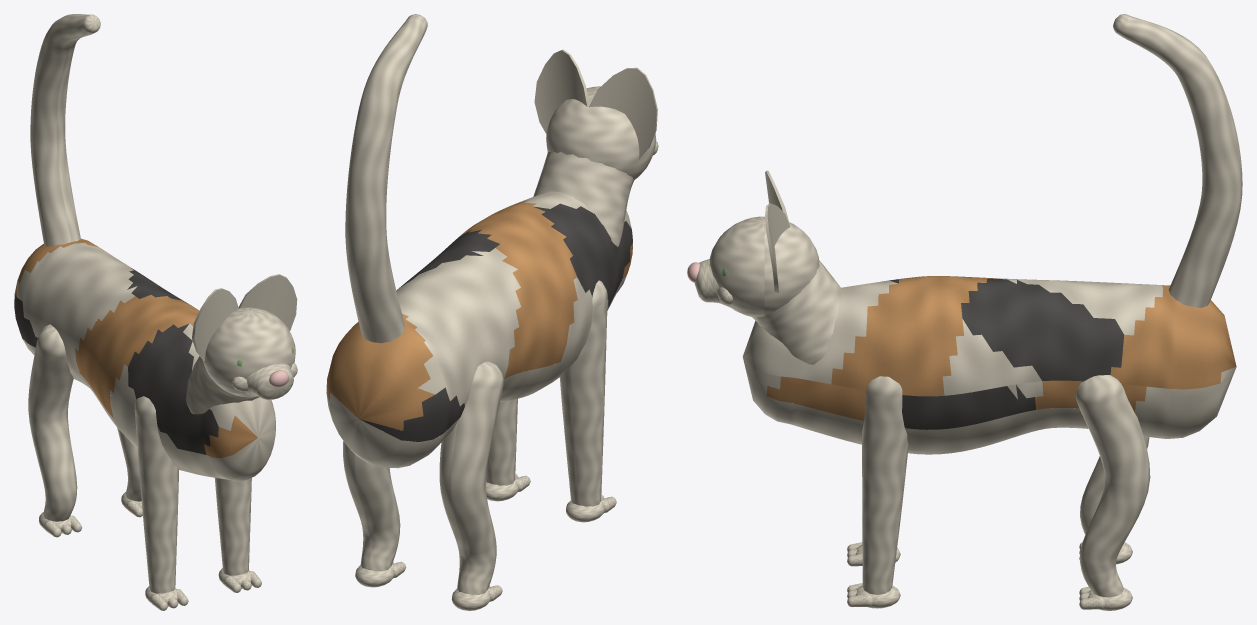
The model's file is pets-and-companions-hd-domestic-shorthair-calico-694f673f__28154.glb.
3 views of the same model, side by side, from view 1: azimuth 30°, elevation 25°; view 2: azimuth 150°, elevation 25°; view 3: azimuth 270°, elevation 25° (orthographic). The views are drawn at different scales.
Visible parts, largest first — view 1: domestic-shorthair-calico; view 2: domestic-shorthair-calico; view 3: domestic-shorthair-calico.
Part boxes in pixels (left/top/right/bottom): domestic-shorthair-calico: left=14, top=14, right=297, bottom=610; domestic-shorthair-calico: left=326, top=14, right=658, bottom=610; domestic-shorthair-calico: left=687, top=14, right=1242, bottom=610.
Size of the model in its own units: 0.1277 by 0.4983 by 0.4395.
6 materials, 3 textured.
